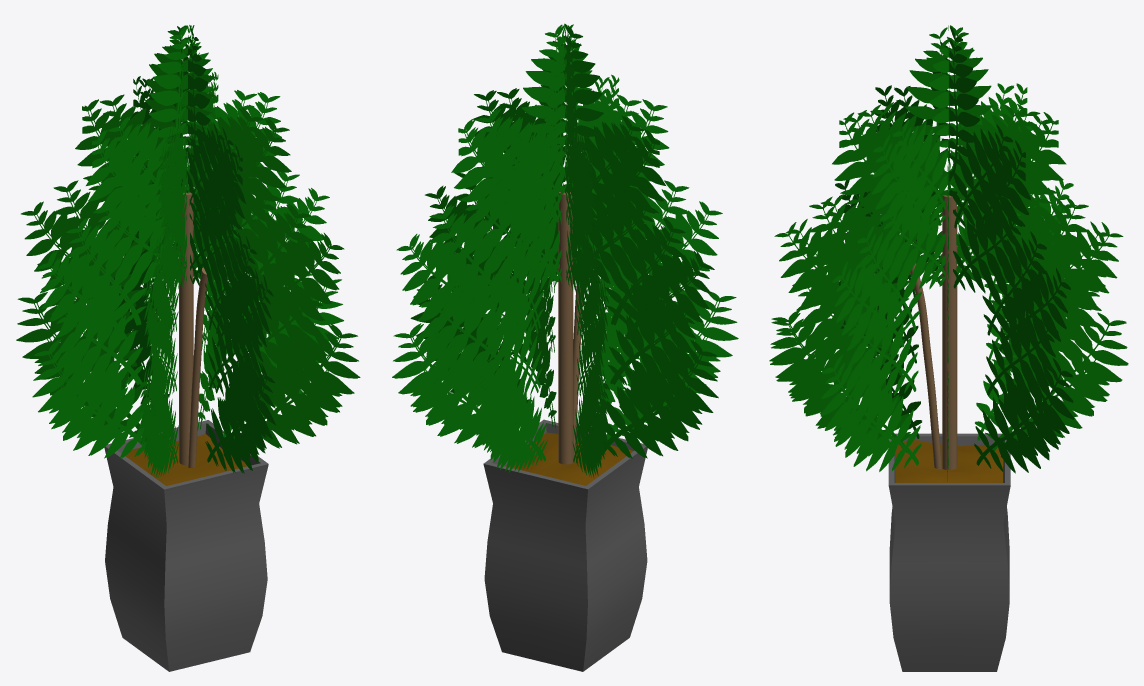
The model's file is Plant Pot.fbx.
The picture shows the model from 3 angles, left to right: view 1: azimuth 30°, elevation 25°; view 2: azimuth 150°, elevation 25°; view 3: azimuth 270°, elevation 25°; orthographic projection.
Visible parts, largest first — view 1: Plant; view 2: Plant; view 3: Plant.
Part boxes in pixels (<box>): Plant: <box>16,25,360,671</box>; Plant: <box>392,23,738,671</box>; Plant: <box>769,25,1128,671</box>.
Size of the model in its own units: 14.93 by 28.3 by 14.8.
Materials: 4 (1 with a texture image).
